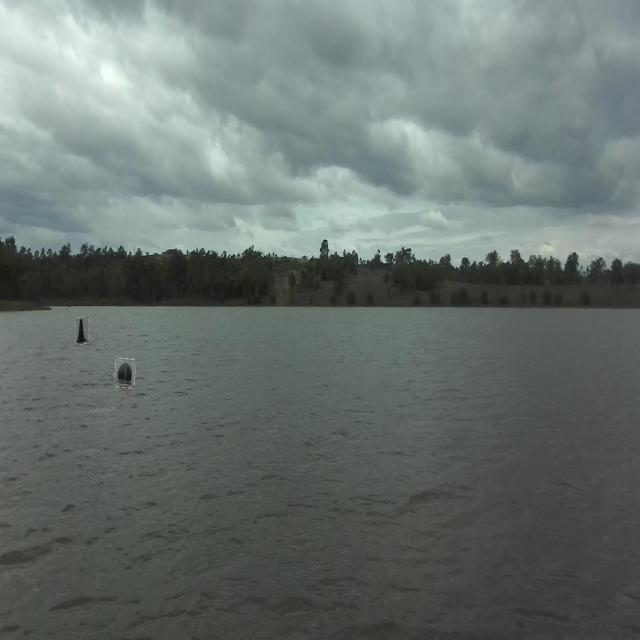Black_Buoy: (115, 342, 134, 389), (72, 319, 90, 350)
